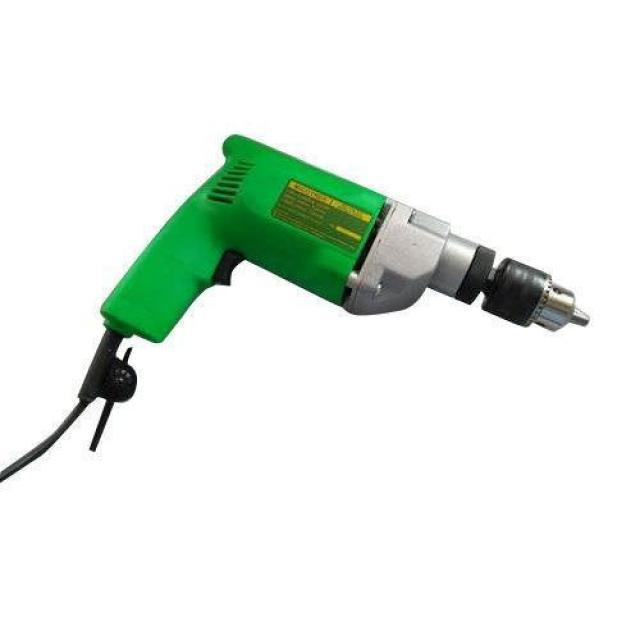drill: (78, 134, 592, 404)
